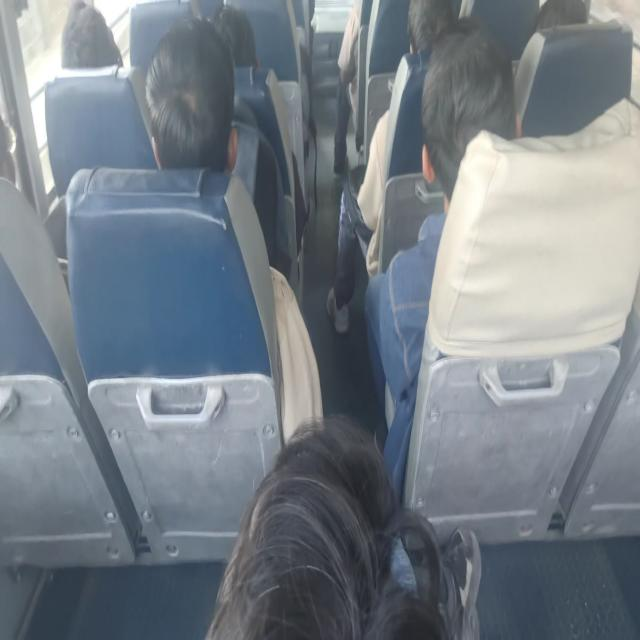person: (144, 14, 324, 444), (364, 16, 520, 500), (204, 413, 482, 638), (326, 0, 456, 334), (144, 15, 239, 172), (332, 0, 362, 176), (60, 0, 124, 69), (212, 5, 258, 69)
